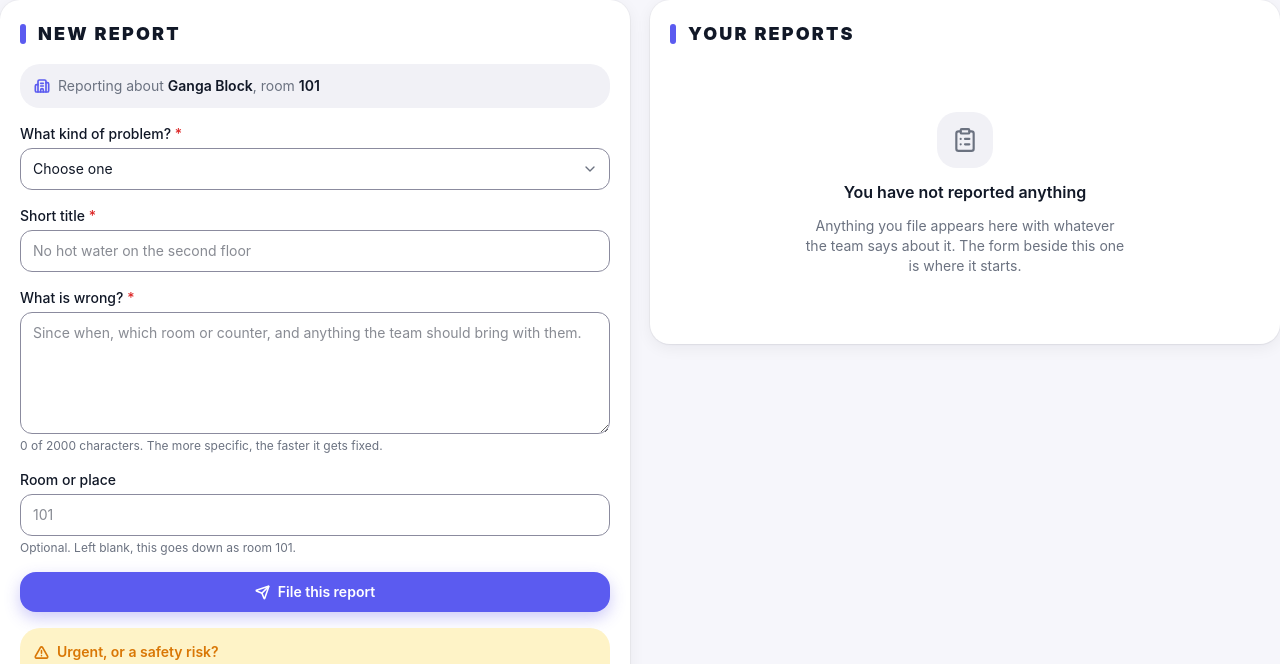
Scenario: ReportPanel › shows the server’s own reason when a report is refused
Select "Water" in the dropdown labelled "What kind of problem? *": (315, 169) [20,148,610,190]
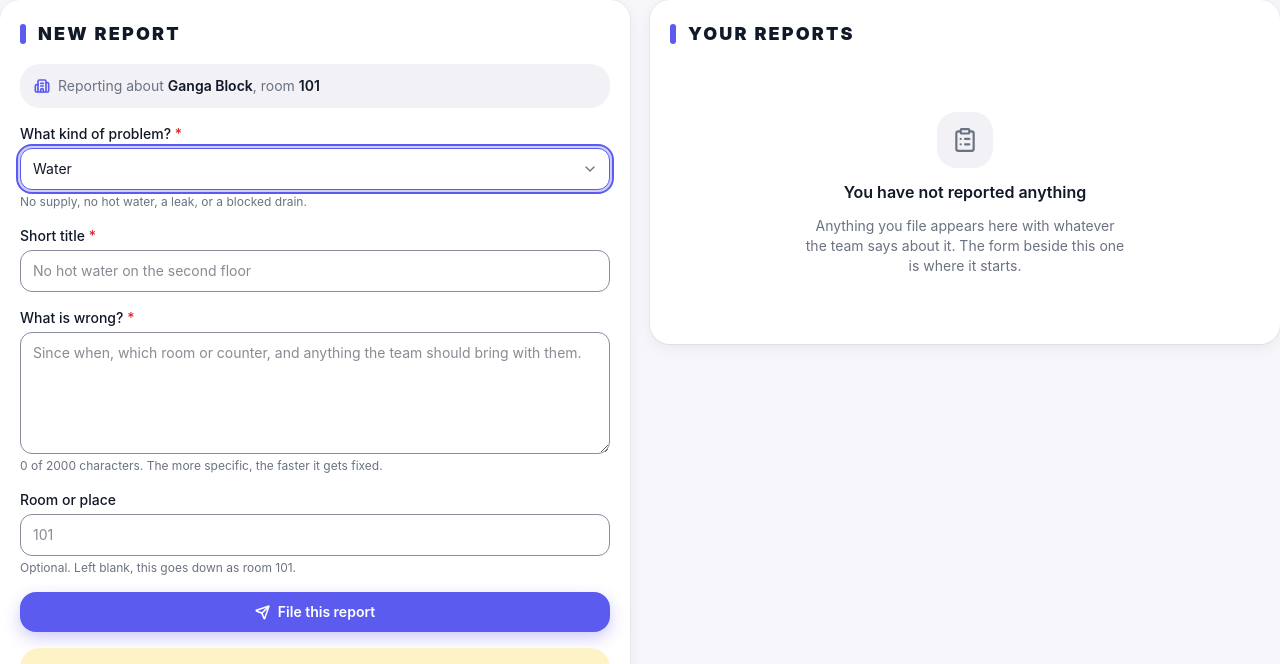
In the field labelled "Short title *": (315, 271) [20,250,610,292], type "A leak"
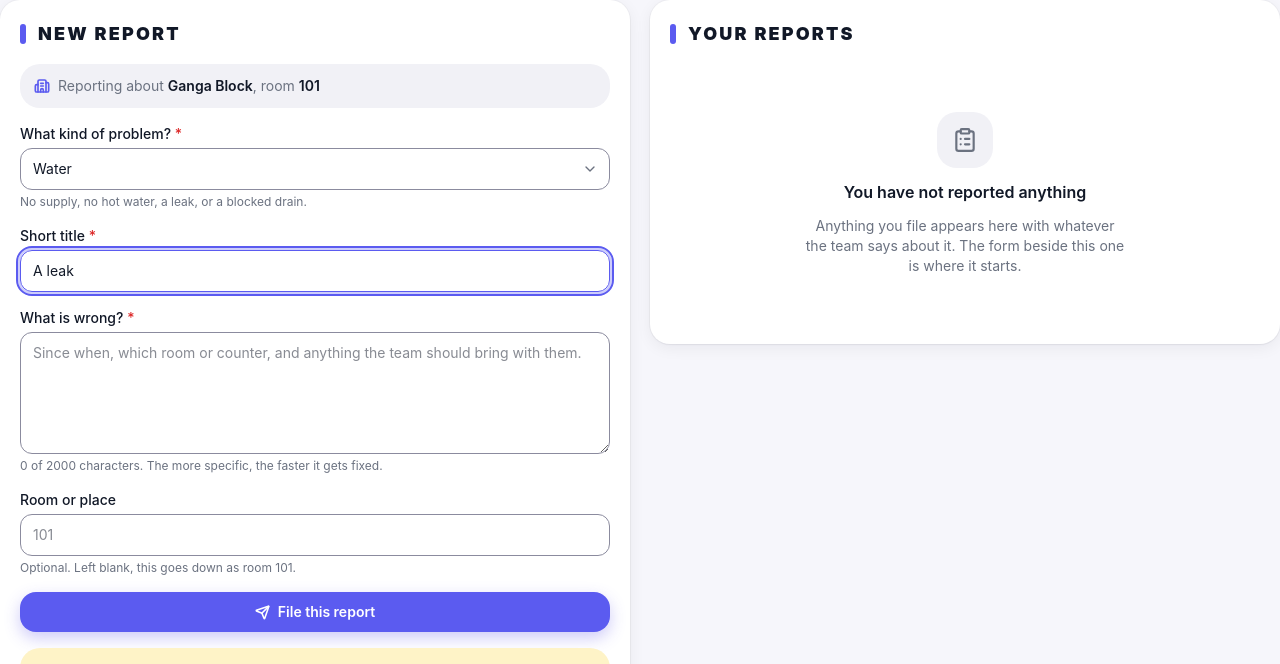
In the text box labelled "What is wrong? *": (315, 393) [20,332,610,454], type "Under the sink."
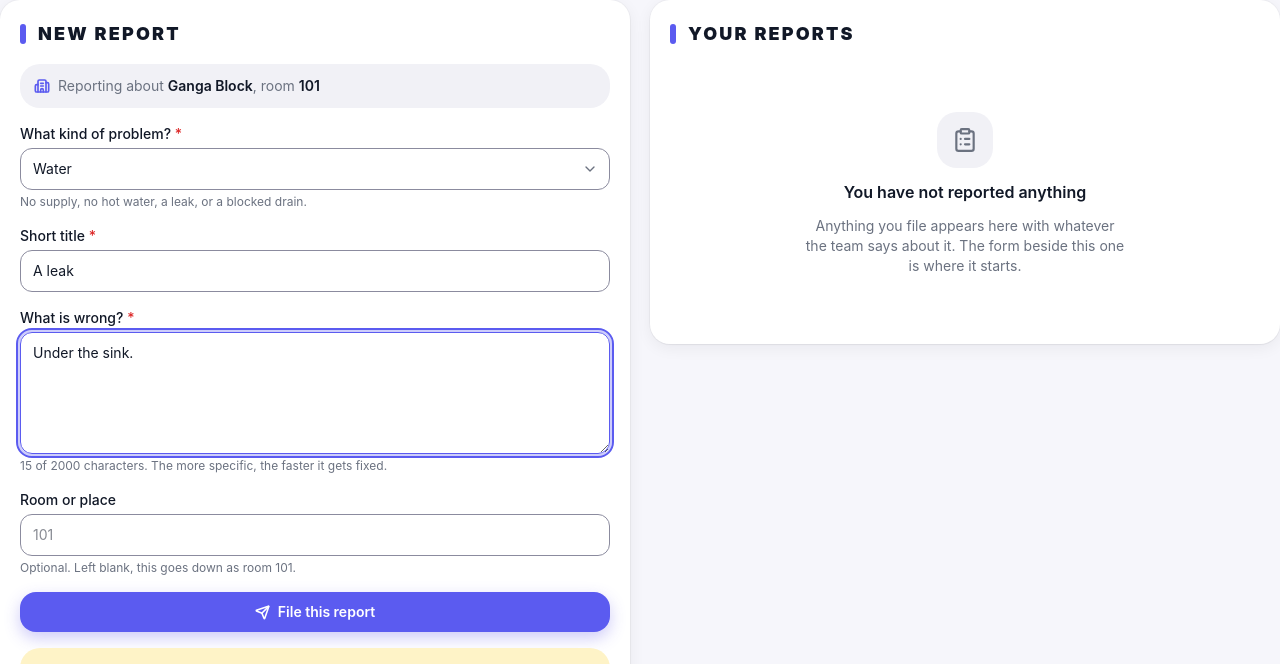
Click the button "File this report": click(315, 612) [20,592,610,632]
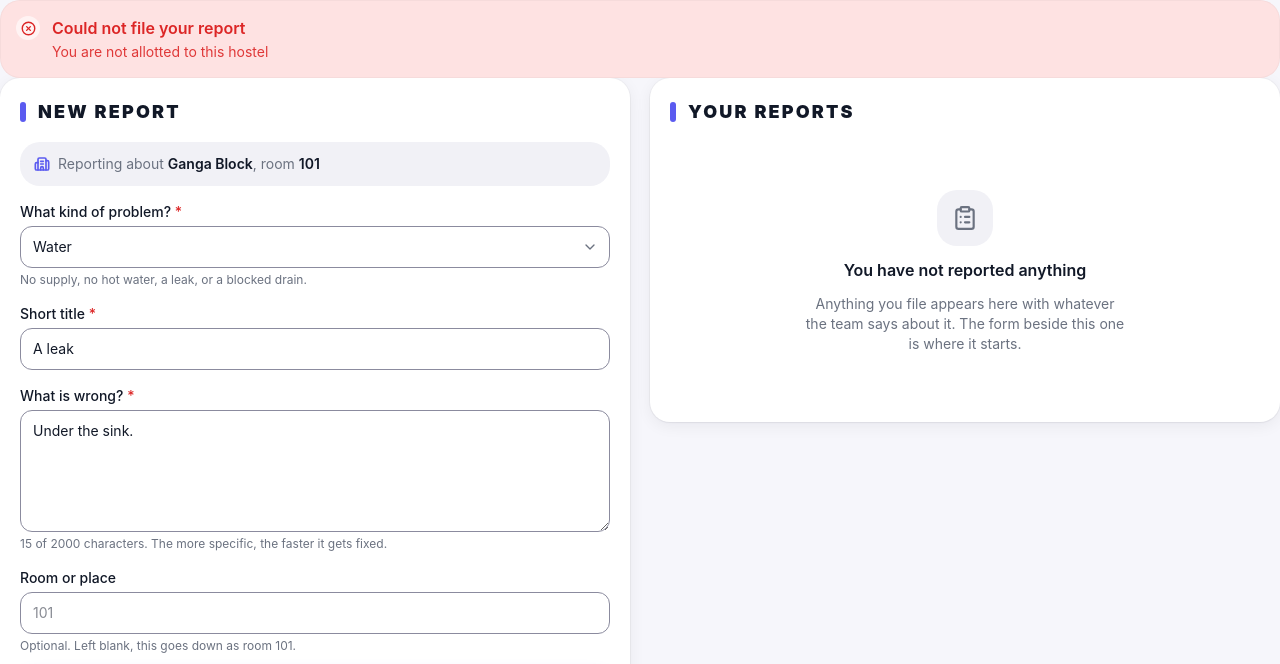
Expected: the text "You are not allotted to this hostel" is shown, [52,42,268,62]
